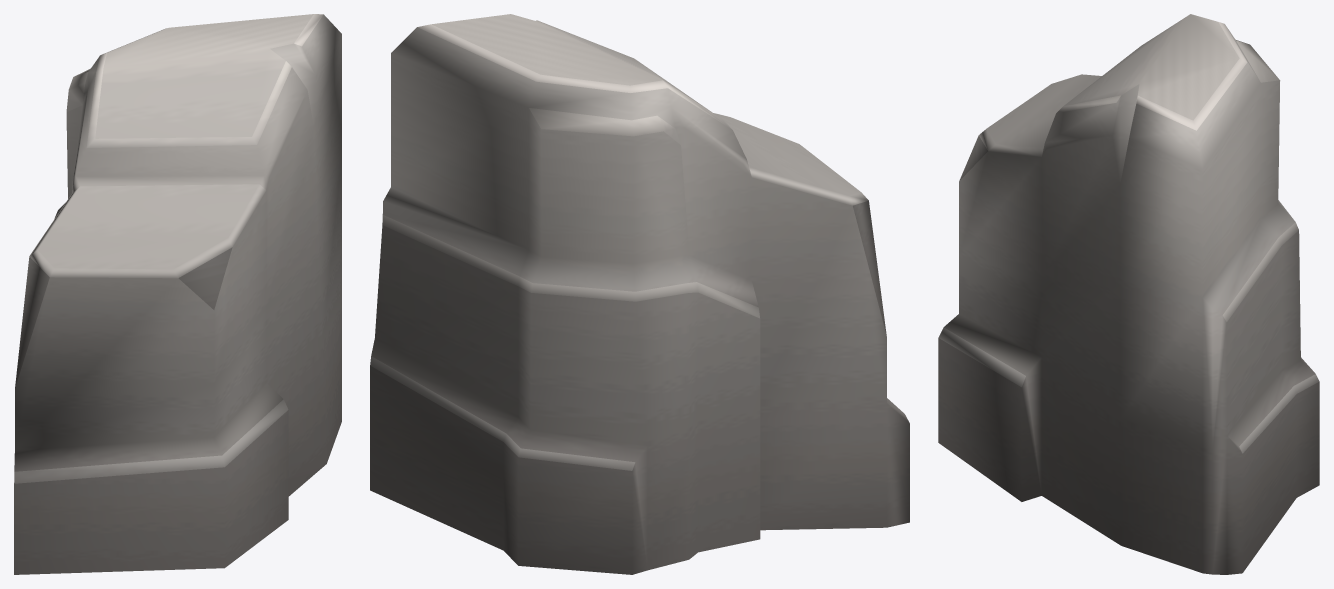
The model's file is Rock_04.fbx.
3 renders of one model, left to right at view 1: azimuth 30°, elevation 25°; view 2: azimuth 150°, elevation 25°; view 3: azimuth 270°, elevation 25°, orthographic. The views are drawn at different scales.
Visible parts, largest first — view 1: Rock_04; view 2: Rock_04; view 3: Rock_04.
Boxes of the visible parts, bbox=[...] form: Rock_04: bbox=[14, 14, 341, 574]; Rock_04: bbox=[370, 14, 909, 574]; Rock_04: bbox=[938, 14, 1319, 574].
Size of what is drawn, in the model's own units: 3.83 by 3.8 by 3.
1 material, 1 textured.
